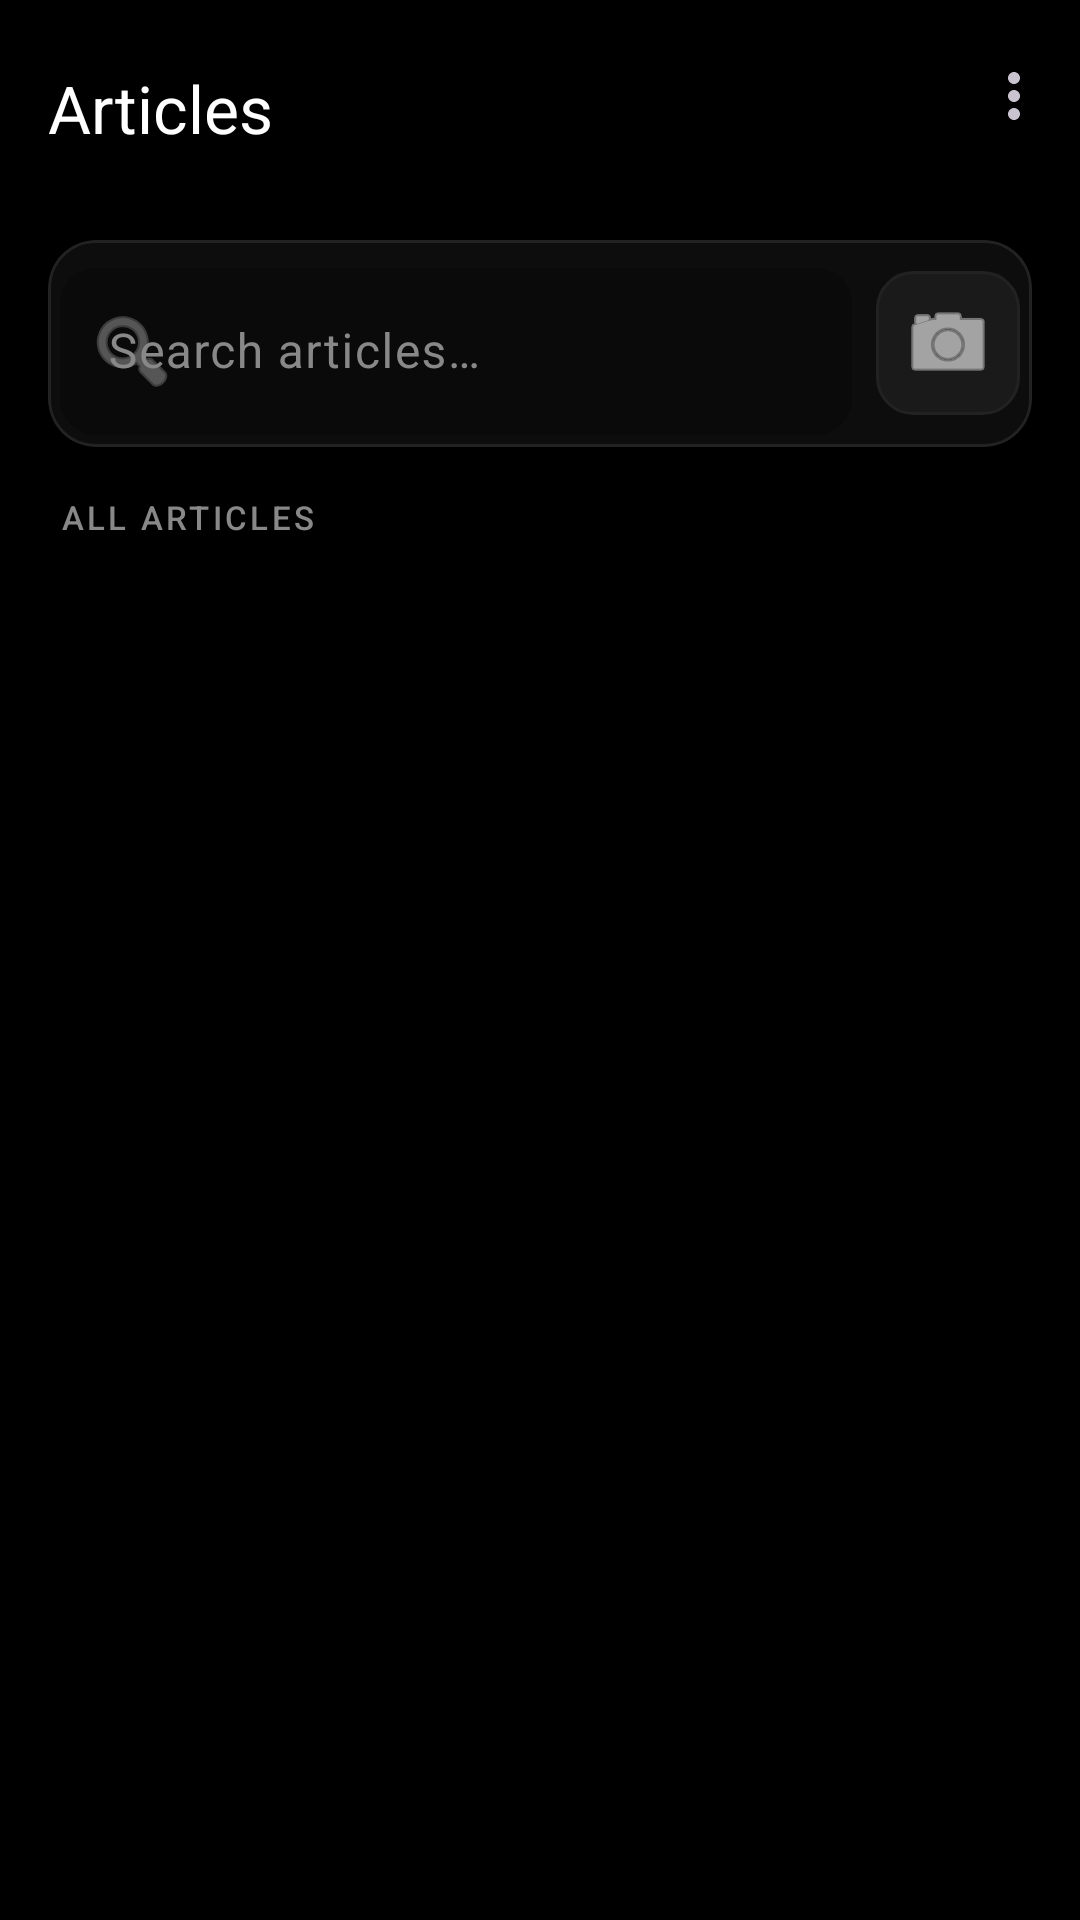

Icon click points for this 1080w x 1920h phone screenshot, format point (x, y):
Scan: point (948, 341)
